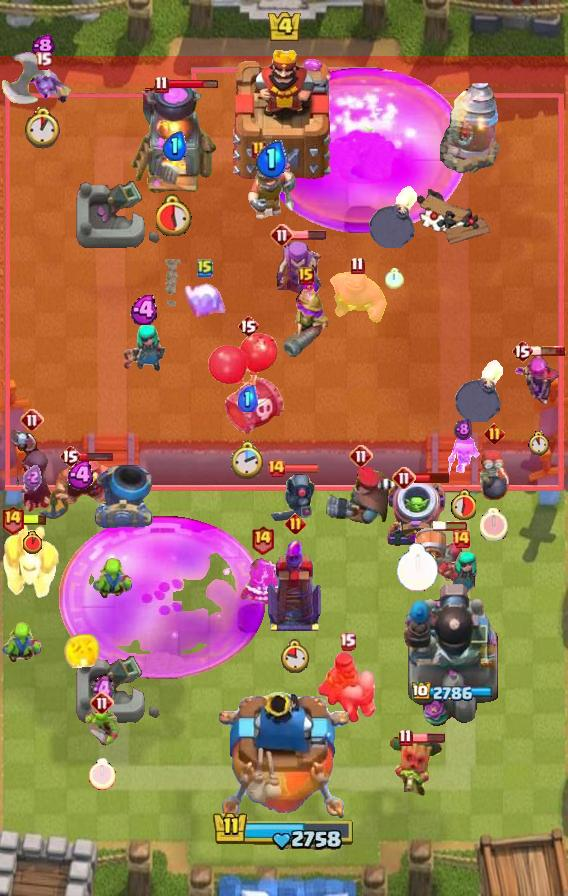archer-evolution: (513, 347, 563, 407)
axe: (0, 51, 68, 105)
bar: (166, 79, 219, 90), (414, 471, 451, 484), (12, 513, 48, 526), (410, 732, 446, 744), (433, 520, 469, 532), (530, 345, 566, 357), (291, 229, 327, 241), (79, 450, 114, 462), (284, 463, 320, 474)
bar-level: (250, 524, 275, 555), (0, 504, 25, 535), (90, 691, 114, 715), (392, 466, 416, 490), (349, 444, 373, 468), (20, 408, 44, 432), (270, 223, 294, 247), (59, 444, 81, 468), (511, 339, 533, 363), (237, 314, 259, 338), (285, 513, 306, 534), (484, 423, 505, 444), (451, 529, 471, 549), (266, 458, 286, 478), (339, 632, 356, 651), (35, 51, 52, 70), (197, 258, 213, 278), (251, 140, 267, 160), (298, 267, 314, 285), (398, 728, 413, 747), (350, 256, 365, 275), (154, 75, 169, 94)
bomb: (454, 360, 506, 422), (368, 186, 420, 248)
bomber: (477, 445, 511, 501)
cannoneer-tower: (402, 579, 504, 731)
clock: (396, 543, 439, 592), (23, 107, 63, 149), (156, 194, 193, 236), (231, 440, 265, 481), (281, 639, 310, 673), (480, 508, 508, 541), (89, 758, 116, 790), (450, 489, 476, 520), (527, 431, 550, 456), (23, 531, 42, 554), (385, 268, 404, 289)
dart-goblin: (386, 734, 444, 800)
dirt: (161, 259, 184, 309)
electro-spirit: (236, 557, 288, 611)
elixir: (255, 140, 287, 178), (130, 295, 161, 325), (67, 461, 97, 489), (91, 673, 114, 708), (162, 131, 187, 161), (31, 34, 55, 58), (238, 385, 258, 412), (23, 465, 42, 489), (454, 418, 472, 441)
elixir-golem-mid: (325, 271, 389, 325)
goblin: (0, 616, 44, 671), (91, 552, 135, 607), (83, 705, 121, 747)
hunter: (323, 466, 399, 526)
ice-spirit-evolution: (182, 280, 228, 322)
king-tower: (219, 692, 349, 826), (229, 43, 339, 181)
king-tower-bar: (212, 810, 356, 852)
mega-minion: (0, 520, 62, 600)
mini-pekka: (268, 471, 318, 525)
minion: (12, 66, 74, 104)
mortar: (93, 464, 153, 528)
mortar-evolution: (385, 479, 449, 549)
mother-witch: (272, 238, 326, 302)
musketeer: (278, 283, 334, 361)
night-witch: (9, 427, 55, 515)
ram-rider: (317, 650, 377, 724)
rascal-girl: (435, 549, 487, 607), (122, 322, 168, 372)
royal-recruit: (245, 149, 297, 225)
skeleton-evolution: (445, 436, 481, 476)
tower-bar: (412, 682, 495, 703)
wall-breaker: (412, 526, 468, 584)
